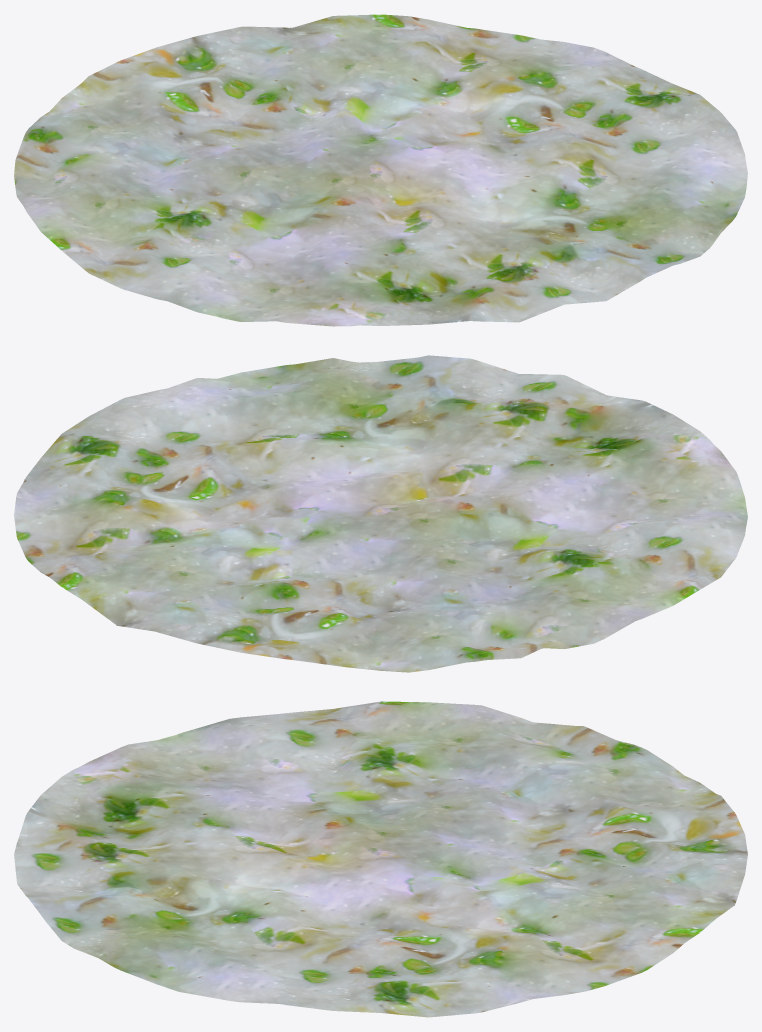
Rendered from pot_Soup.fbx.
3 renders of one model, top to bottom at view 1: azimuth 30°, elevation 25°; view 2: azimuth 150°, elevation 25°; view 3: azimuth 270°, elevation 25°, orthographic.
Visible parts, largest first — view 1: 平面; view 2: 平面; view 3: 平面.
Boxes of the visible parts, left/top/right/bottom form: 平面: left=14, top=14, right=747, bottom=326; 平面: left=14, top=355, right=747, bottom=672; 平面: left=14, top=701, right=747, bottom=1017.
Bounding box in the file's own units: 0.2915 × 0.00368 × 0.2902.
